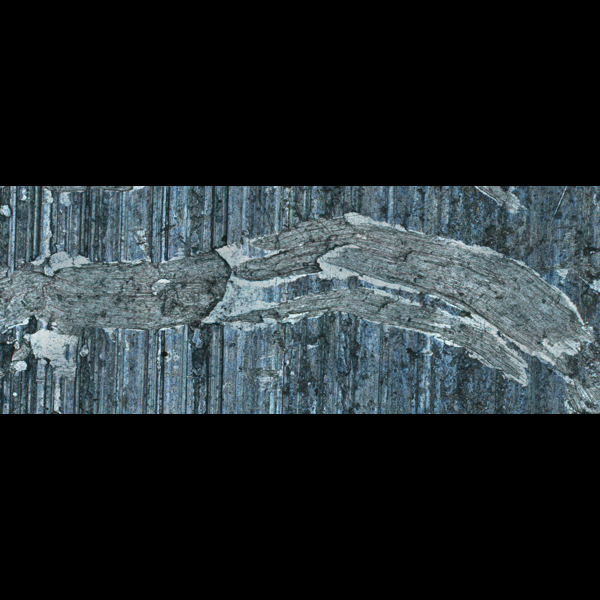d: (260, 206, 503, 342), (110, 221, 300, 337), (455, 259, 595, 406), (0, 234, 109, 392), (0, 185, 75, 222)
